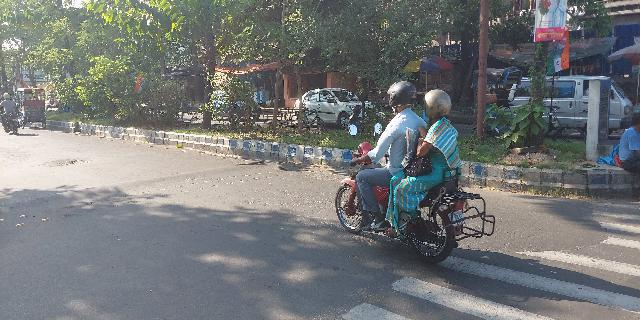Car: (332, 78, 482, 259)
Motorbike: (1, 91, 21, 139)
Rickshaw: (18, 88, 49, 130)
